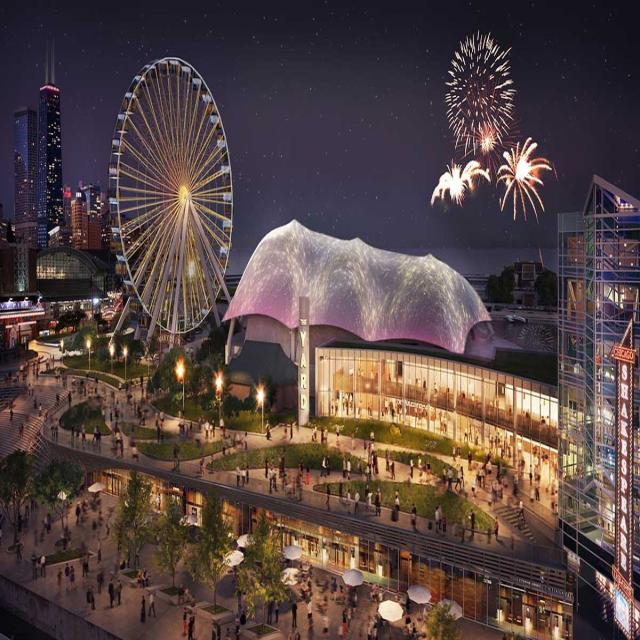body: (110, 394, 149, 460), (469, 461, 518, 504), (297, 558, 329, 611), (411, 402, 452, 437), (80, 483, 109, 530), (62, 367, 99, 400), (407, 373, 453, 398), (175, 407, 206, 441), (381, 396, 406, 424), (342, 577, 360, 612), (292, 458, 305, 503), (392, 583, 412, 611), (366, 440, 380, 476), (458, 384, 479, 406), (545, 481, 558, 513), (404, 612, 420, 638), (369, 581, 384, 605), (366, 616, 380, 640), (40, 510, 52, 537), (115, 550, 129, 573), (566, 473, 574, 508), (29, 551, 38, 581), (460, 511, 468, 544), (17, 359, 28, 383), (321, 610, 330, 639), (172, 443, 181, 472), (516, 497, 526, 523), (107, 576, 115, 608), (147, 590, 156, 618), (272, 593, 280, 624), (239, 608, 247, 639), (14, 532, 22, 563), (185, 341, 203, 354), (96, 565, 104, 594), (267, 593, 274, 626), (67, 563, 76, 588), (374, 488, 382, 516), (437, 502, 445, 530), (214, 633, 246, 640), (182, 512, 198, 526), (394, 491, 401, 522), (291, 597, 298, 628), (446, 466, 454, 492), (363, 483, 371, 509), (366, 487, 374, 513), (434, 505, 441, 534), (88, 582, 95, 611), (56, 564, 63, 593), (141, 564, 149, 589), (80, 553, 88, 578), (325, 482, 332, 510), (354, 488, 361, 516), (85, 586, 92, 614), (198, 450, 205, 478), (454, 468, 462, 492), (182, 606, 188, 638), (177, 582, 184, 609), (342, 608, 348, 639), (388, 458, 396, 481), (440, 511, 448, 534), (240, 462, 247, 488), (306, 596, 313, 622), (236, 588, 243, 614), (189, 612, 196, 638), (469, 508, 475, 538), (346, 604, 352, 634), (319, 455, 327, 477), (372, 490, 380, 512), (214, 617, 222, 639), (485, 457, 492, 482), (534, 473, 540, 502), (96, 536, 102, 565), (95, 427, 102, 451), (208, 451, 215, 475), (264, 418, 272, 439), (338, 578, 344, 606), (186, 618, 194, 639), (140, 594, 146, 622), (116, 578, 122, 606), (64, 562, 70, 590), (501, 629, 516, 640), (349, 428, 356, 451), (65, 527, 72, 550), (23, 493, 30, 516), (16, 509, 23, 532), (91, 424, 99, 444), (520, 454, 526, 480), (459, 463, 465, 489), (268, 467, 274, 493), (235, 462, 241, 488), (234, 611, 240, 637), (136, 567, 142, 593), (40, 552, 46, 578), (203, 418, 210, 440), (531, 440, 538, 462), (63, 515, 70, 537), (362, 436, 368, 461), (494, 515, 500, 540), (62, 526, 68, 551), (32, 520, 38, 545), (277, 455, 283, 479), (534, 464, 542, 482), (411, 502, 416, 530), (30, 490, 35, 518), (52, 415, 58, 438), (467, 449, 473, 472), (346, 457, 352, 480), (264, 456, 270, 479), (516, 437, 522, 460), (446, 468, 453, 487), (158, 422, 164, 444), (492, 433, 498, 455), (535, 450, 541, 472), (540, 450, 546, 472), (304, 463, 310, 485), (83, 551, 89, 573), (75, 503, 81, 525), (338, 478, 343, 504), (49, 416, 55, 437), (467, 422, 473, 443), (280, 472, 287, 490), (184, 583, 190, 604), (496, 431, 501, 456), (553, 456, 558, 481), (292, 628, 303, 639), (507, 403, 512, 427), (551, 453, 556, 477), (410, 456, 415, 480), (356, 458, 362, 478), (342, 456, 347, 480), (280, 452, 286, 472), (224, 624, 232, 639), (91, 516, 97, 536), (502, 438, 508, 458), (265, 424, 272, 441), (529, 486, 536, 503), (159, 408, 164, 431), (528, 463, 533, 486), (426, 459, 431, 482), (422, 461, 427, 484), (325, 452, 330, 475), (81, 421, 86, 444), (208, 422, 214, 441), (319, 425, 325, 444), (516, 513, 522, 532), (370, 367, 378, 381), (35, 362, 40, 384), (70, 421, 75, 443), (156, 422, 161, 444), (525, 407, 530, 429), (442, 465, 447, 487), (6, 368, 12, 386), (108, 404, 114, 422), (220, 420, 226, 438), (482, 451, 487, 472), (418, 461, 423, 482), (190, 594, 197, 609), (222, 431, 226, 457), (347, 489, 351, 515), (285, 626, 293, 639), (19, 421, 25, 438), (318, 399, 324, 416), (67, 389, 72, 409), (154, 409, 159, 429), (219, 415, 224, 435), (243, 430, 248, 450), (463, 424, 468, 444), (474, 428, 479, 448), (489, 435, 494, 455), (516, 458, 521, 478), (367, 462, 372, 482), (105, 518, 110, 538), (455, 446, 462, 460), (8, 406, 14, 422), (26, 381, 32, 397), (499, 433, 503, 457), (506, 443, 512, 459), (270, 455, 276, 471), (211, 623, 217, 639), (49, 413, 54, 432), (75, 423, 80, 442), (111, 388, 116, 407), (232, 432, 237, 451), (324, 425, 329, 444), (452, 444, 457, 463), (45, 356, 52, 369), (43, 405, 49, 420), (344, 398, 349, 416), (552, 420, 558, 435), (338, 621, 343, 639), (332, 577, 338, 592), (330, 576, 335, 594), (155, 530, 161, 545), (37, 401, 42, 418), (56, 366, 61, 383), (160, 406, 165, 423), (283, 420, 288, 437), (348, 390, 353, 407), (386, 451, 390, 472), (370, 428, 376, 442), (32, 361, 36, 381), (30, 382, 35, 398), (32, 393, 37, 409), (17, 420, 22, 436), (129, 374, 133, 394), (139, 372, 144, 388), (227, 433, 232, 449), (335, 421, 340, 437), (344, 391, 349, 407), (545, 414, 550, 430), (103, 391, 108, 407), (211, 419, 215, 438), (15, 369, 20, 384), (133, 376, 138, 391), (4, 367, 8, 385), (54, 366, 58, 384), (313, 424, 317, 442), (348, 365, 354, 377), (274, 469, 277, 492), (102, 406, 106, 423), (334, 399, 338, 416), (359, 400, 363, 417), (487, 448, 492, 461), (124, 380, 128, 396), (341, 395, 345, 411), (349, 400, 353, 416), (272, 467, 275, 488), (357, 366, 361, 381), (544, 451, 548, 466), (417, 453, 422, 465), (582, 498, 588, 508), (555, 616, 560, 628), (8, 396, 14, 406), (246, 465, 249, 484), (51, 352, 55, 366), (394, 369, 398, 383), (331, 397, 334, 415), (540, 415, 546, 424), (366, 464, 369, 482), (368, 400, 372, 413), (118, 379, 122, 391), (387, 373, 391, 385), (357, 399, 360, 414), (367, 401, 370, 416), (35, 497, 38, 512), (360, 367, 363, 381), (369, 403, 372, 417), (312, 432, 316, 442), (56, 393, 59, 406), (290, 420, 292, 438), (337, 396, 340, 407), (14, 338, 16, 348), (141, 388, 144, 394), (22, 336, 24, 344), (523, 412, 525, 417)
